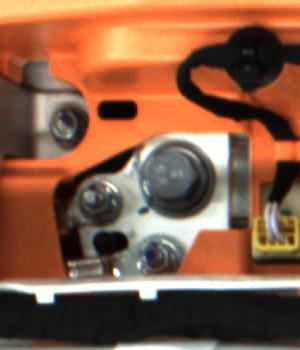nut_b: (135, 142, 229, 217)
screw_s: (43, 107, 85, 147), (73, 176, 109, 218), (137, 242, 178, 276)
